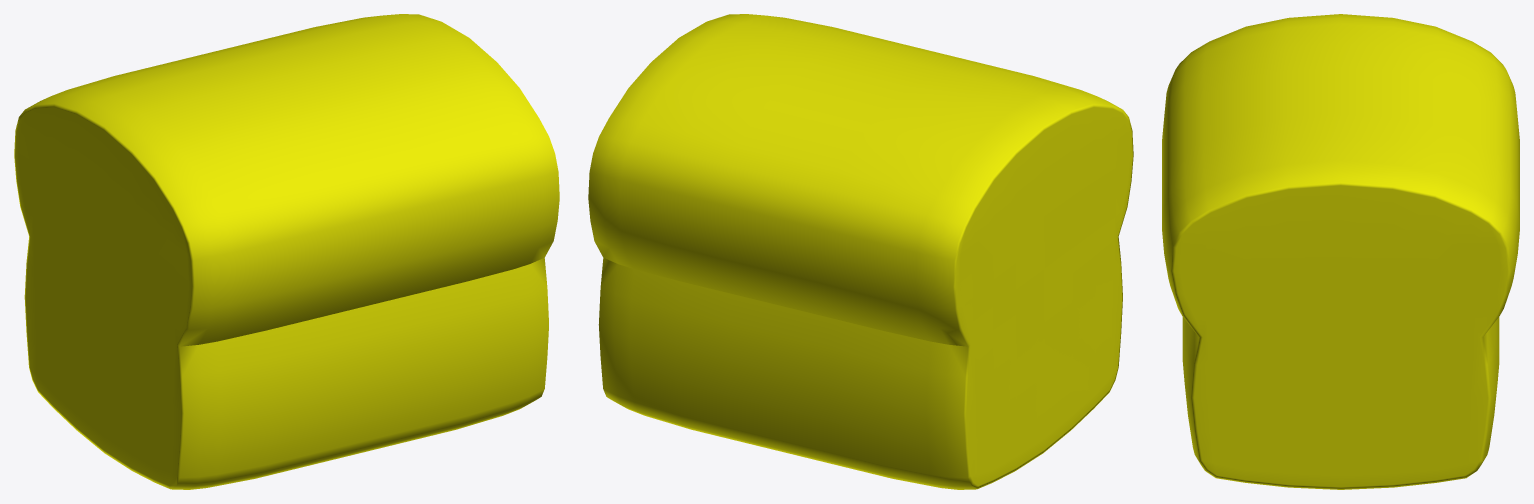
The model's file is bread.fbx.
The picture shows the model from 3 angles, left to right: view 1: azimuth 30°, elevation 25°; view 2: azimuth 150°, elevation 25°; view 3: azimuth 270°, elevation 25°; orthographic projection. The views are drawn at different scales.
Visible parts, largest first — view 1: LoftBread_Outline4; view 2: LoftBread_Outline4; view 3: LoftBread_Outline4.
Boxes of the visible parts, x1,y1,x2,y2 form: LoftBread_Outline4: (14, 14, 559, 489); LoftBread_Outline4: (588, 14, 1133, 489); LoftBread_Outline4: (1162, 14, 1519, 489).
Bounding box in the file's own units: 176 × 157 × 157.
